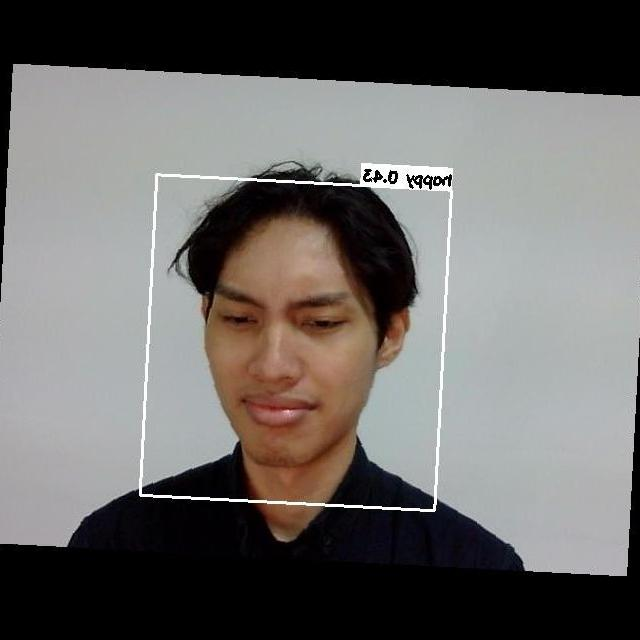Disgust: (196, 251, 394, 448)
